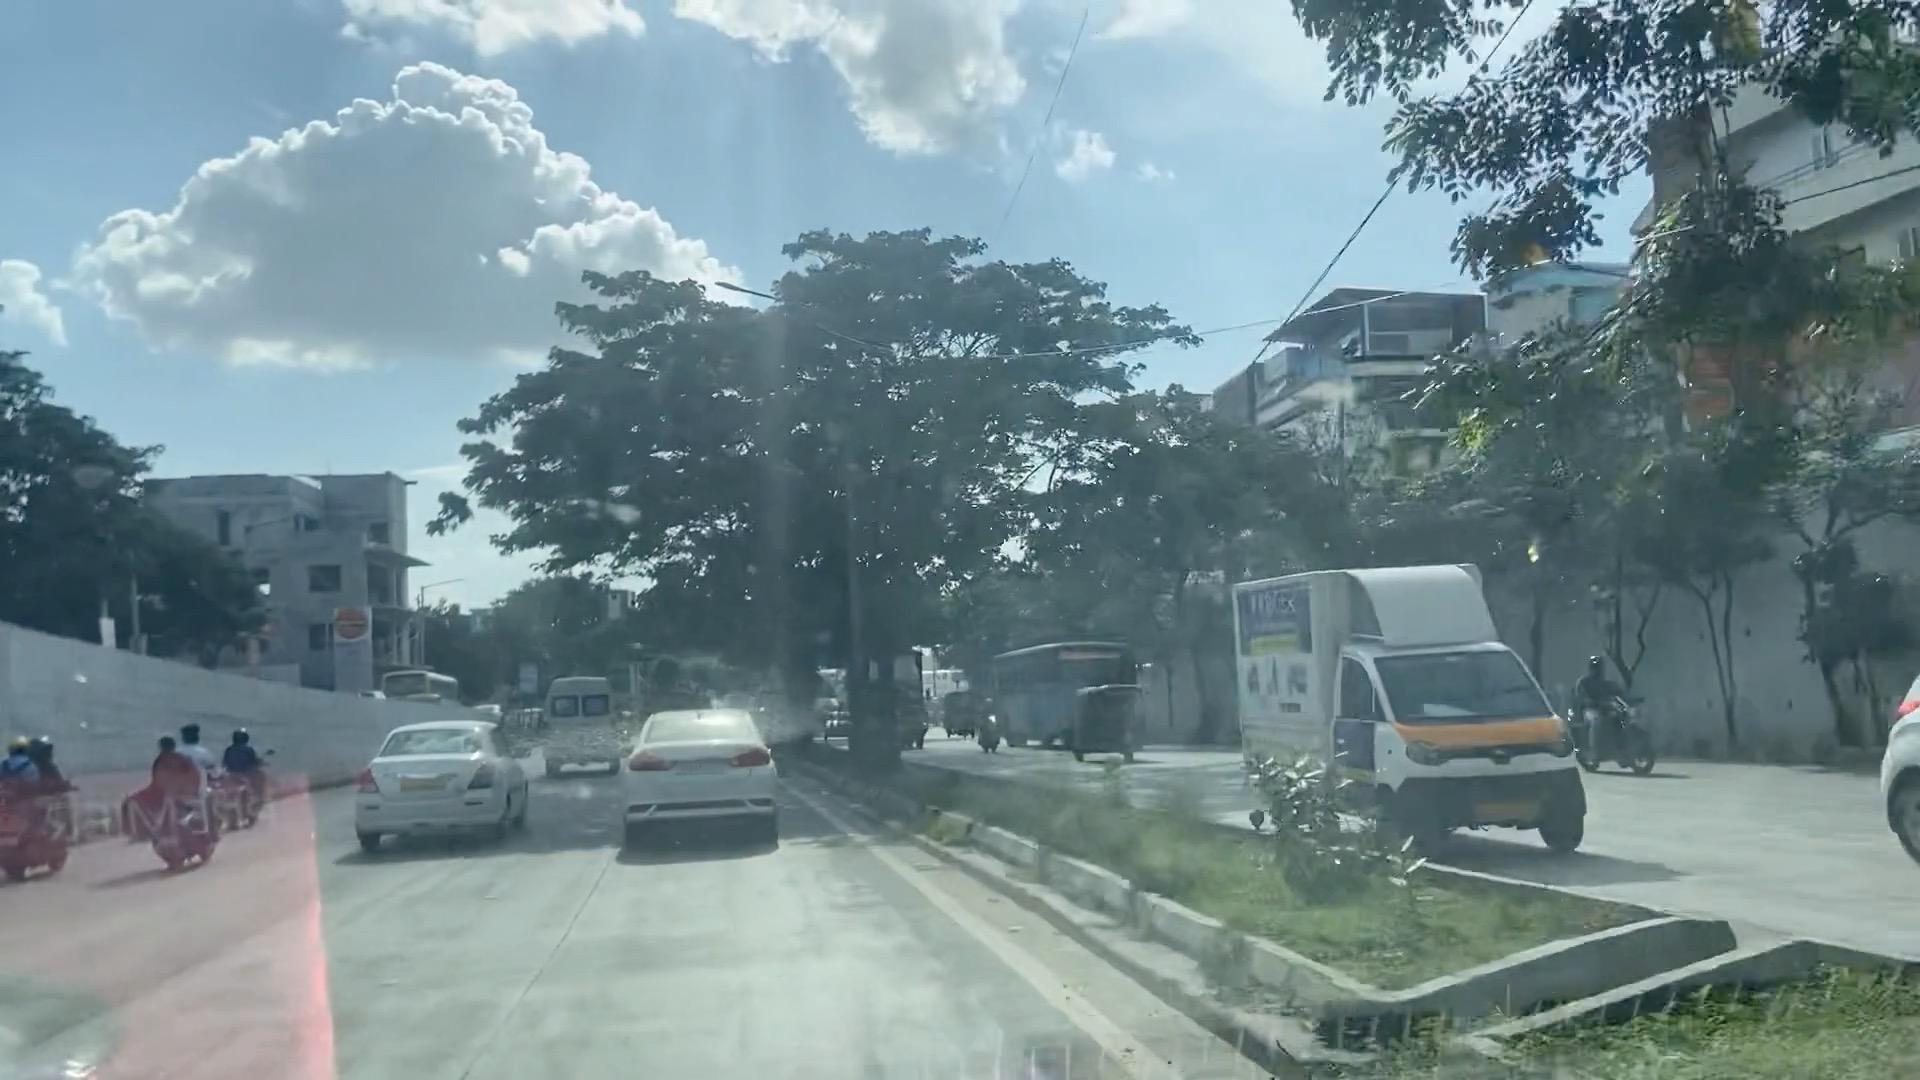LMV: (357, 720, 513, 845), (620, 712, 760, 848), (0, 732, 73, 898), (150, 735, 215, 873), (215, 723, 273, 810)
